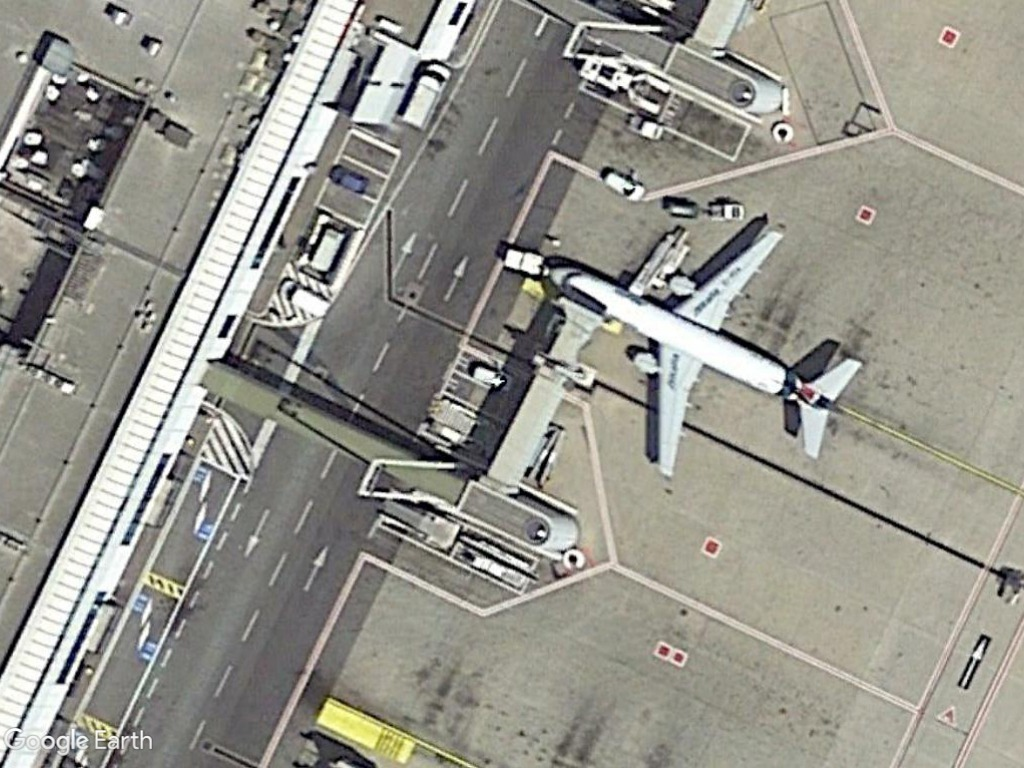airliner: (551, 223, 863, 483)
car: (325, 162, 372, 197)
van: (400, 59, 454, 134), (275, 275, 332, 324), (598, 168, 649, 205)
